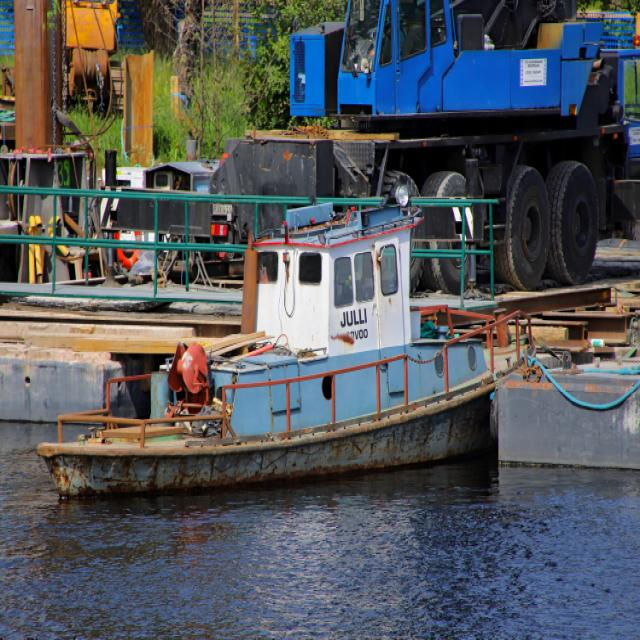tugboat: (38, 195, 507, 525)
